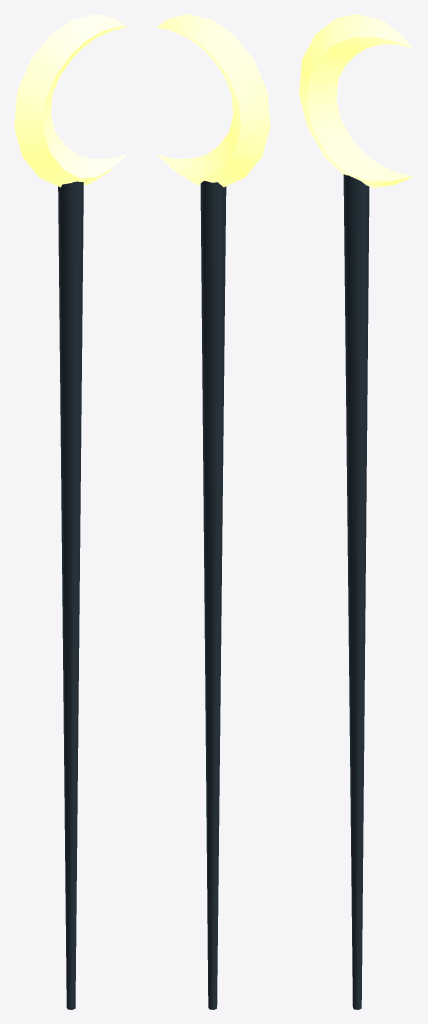
File: staffOptimized.fbx
3 renders of one model, left to right at view 1: azimuth 30°, elevation 25°; view 2: azimuth 150°, elevation 25°; view 3: azimuth 330°, elevation 25°, orthographic.
Parts seen in each view (by area): view 1: staff; view 2: staff; view 3: staff.
Part boxes in pixels (box(x1,y1,x2,y2)): staff: box(14, 14, 127, 1009); staff: box(156, 14, 270, 1009); staff: box(299, 14, 413, 1009).
Bounding box in the file's own units: 19.39 × 161 × 6.39.
